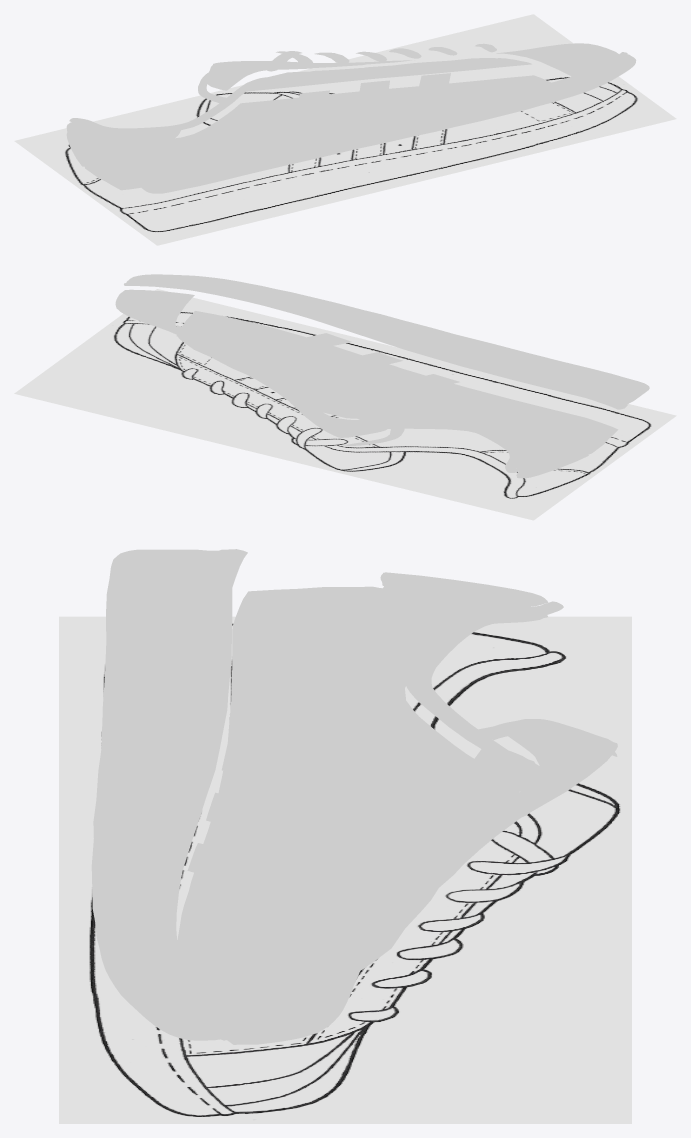
File: AdidasSuperstar.FBX
3 views of the same model, one above another, from view 1: azimuth 30°, elevation 25°; view 2: azimuth 150°, elevation 25°; view 3: azimuth 270°, elevation 25° (orthographic). The views are drawn at different scales.
Visible parts, largest first — view 1: Plane001, Line008, Line002, Line003, Line007, Line001, Line011, Line009, Line012, Line004, Line005, Line006; view 2: Plane001, Line002, Line008, Line003, Line007, Line001, Line011, Line004, Line009, Line005, Line006, Line012; view 3: Plane001, Line002, Line008, Line003, Line007, Line001, Line004, Line011, Line005, Line006, Line012, Line009.
Part boxes in pixels (x1,y1,x2,y2): Plane001: (14, 14, 676, 245); Line008: (121, 52, 636, 193); Line002: (66, 75, 550, 190); Line003: (241, 58, 531, 91); Line007: (496, 43, 618, 76); Line001: (66, 122, 180, 159); Line011: (206, 60, 414, 90); Line009: (69, 72, 266, 133); Line012: (266, 43, 496, 71); Line004: (290, 90, 329, 134); Line005: (353, 80, 389, 121); Line006: (414, 73, 450, 111); Plane001: (14, 289, 676, 520); Line002: (176, 311, 618, 478); Line008: (124, 274, 649, 409); Line003: (176, 325, 379, 418); Line007: (115, 289, 194, 336); Line001: (481, 425, 588, 471); Line011: (234, 366, 390, 437); Line004: (329, 374, 459, 404); Line009: (342, 421, 524, 472); Line005: (280, 352, 402, 381); Line006: (235, 333, 351, 360); Line012: (182, 327, 347, 407); Plane001: (59, 616, 631, 1123); Line002: (177, 586, 547, 988); Line008: (91, 549, 247, 1040); Line003: (315, 744, 519, 975); Line007: (188, 955, 370, 1044); Line001: (370, 572, 548, 673); Line004: (221, 742, 441, 829); Line011: (431, 719, 617, 894); Line005: (206, 792, 410, 872); Line006: (187, 843, 374, 918); Line012: (349, 749, 566, 939); Line009: (405, 601, 617, 781).
Size of the model in its own units: 245 by 18.46 by 117.
